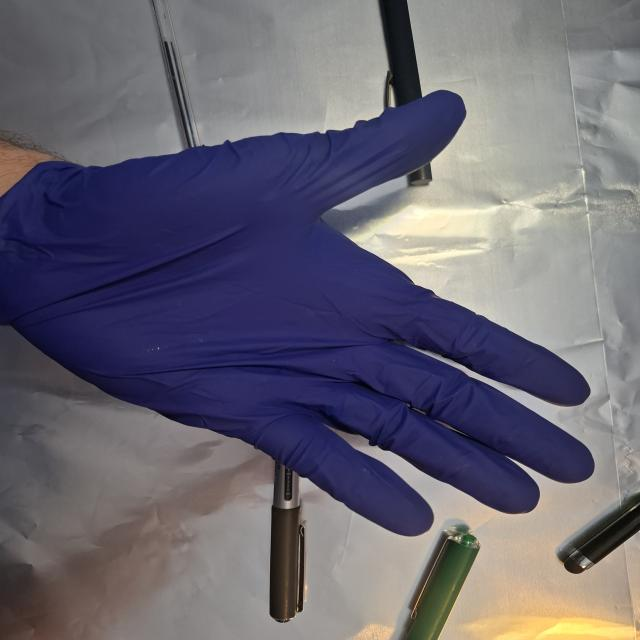glove_on: (3, 86, 599, 540)
